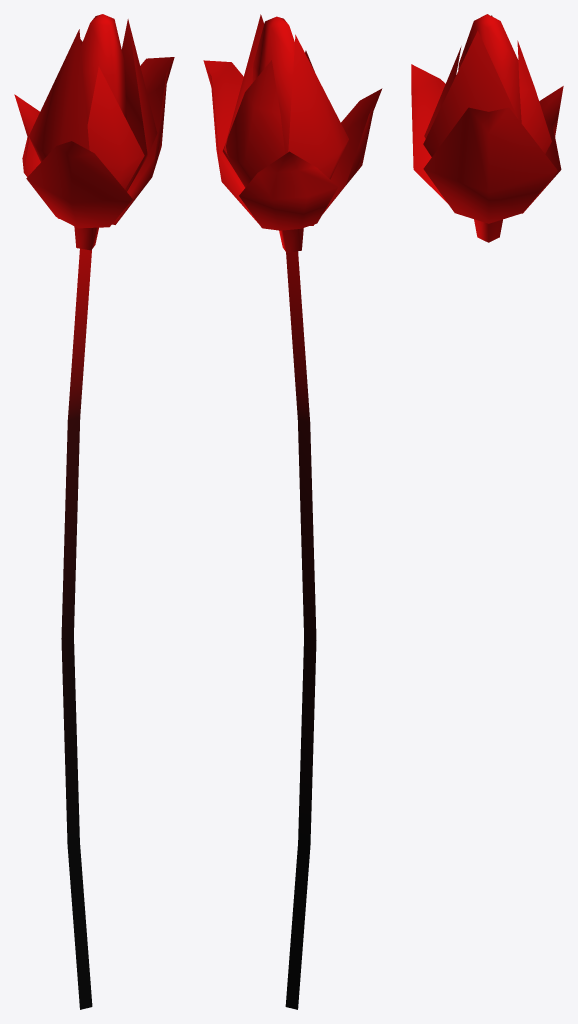
Rendered from SM_Lotus_03_LOD1.fbx.
3 views of the same model, side by side, from view 1: azimuth 30°, elevation 25°; view 2: azimuth 150°, elevation 25°; view 3: azimuth 270°, elevation 25° (orthographic).
Parts seen in each view (by area): view 1: Lotus_03_LOD1; view 2: Lotus_03_LOD1; view 3: Lotus_03_LOD1.
Boxes of the visible parts, x1=… form: Lotus_03_LOD1: x1=14, y1=14, x2=174, y2=1009; Lotus_03_LOD1: x1=203, y1=14, x2=382, y2=1009; Lotus_03_LOD1: x1=411, y1=14, x2=563, y2=242.
Size of the model in its own units: 37.07 by 241 by 33.28.
